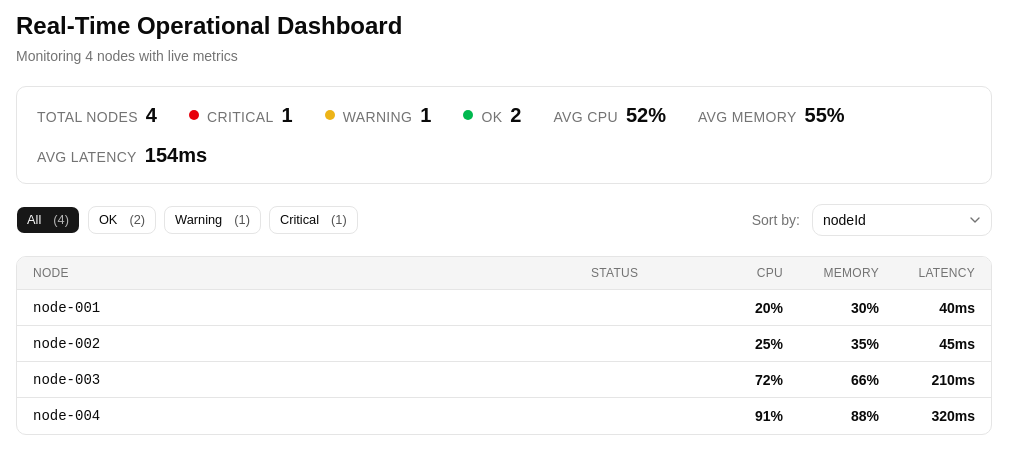
App › shows every node again after going back to All
Click the button "Critical (1)" at (313, 220), box [269,206,358,234]
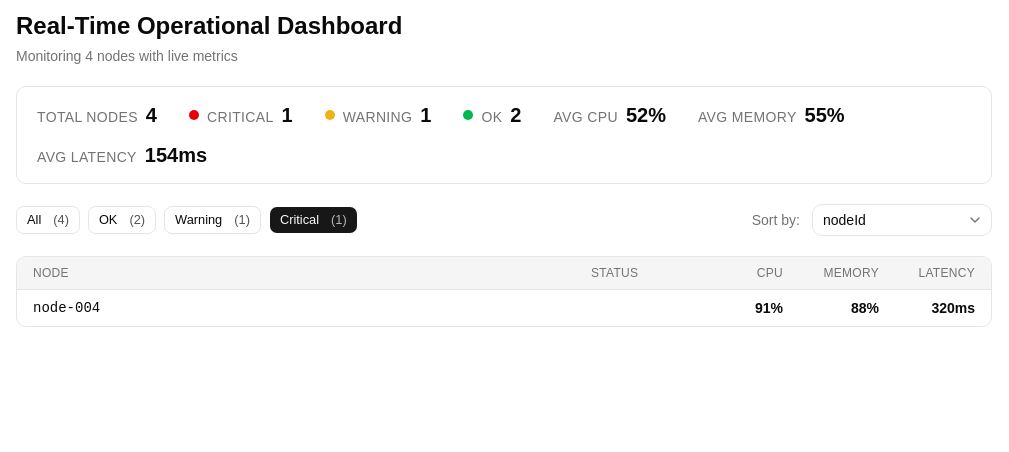
Click the button "All (4)" at (48, 220), box [16,206,80,234]
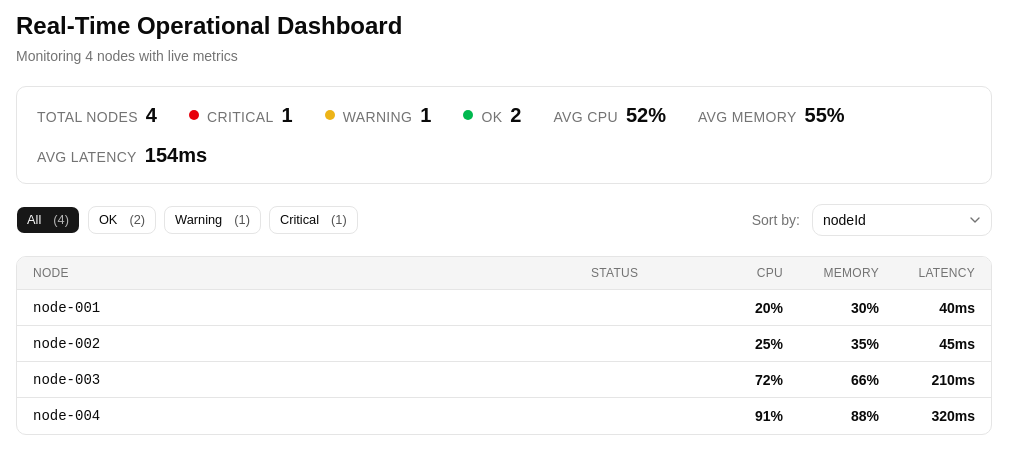
expect the text "node-004" is shown: met, box [17,398,575,434]
expect the text "node-001" is shown: met, box [17,290,575,326]
